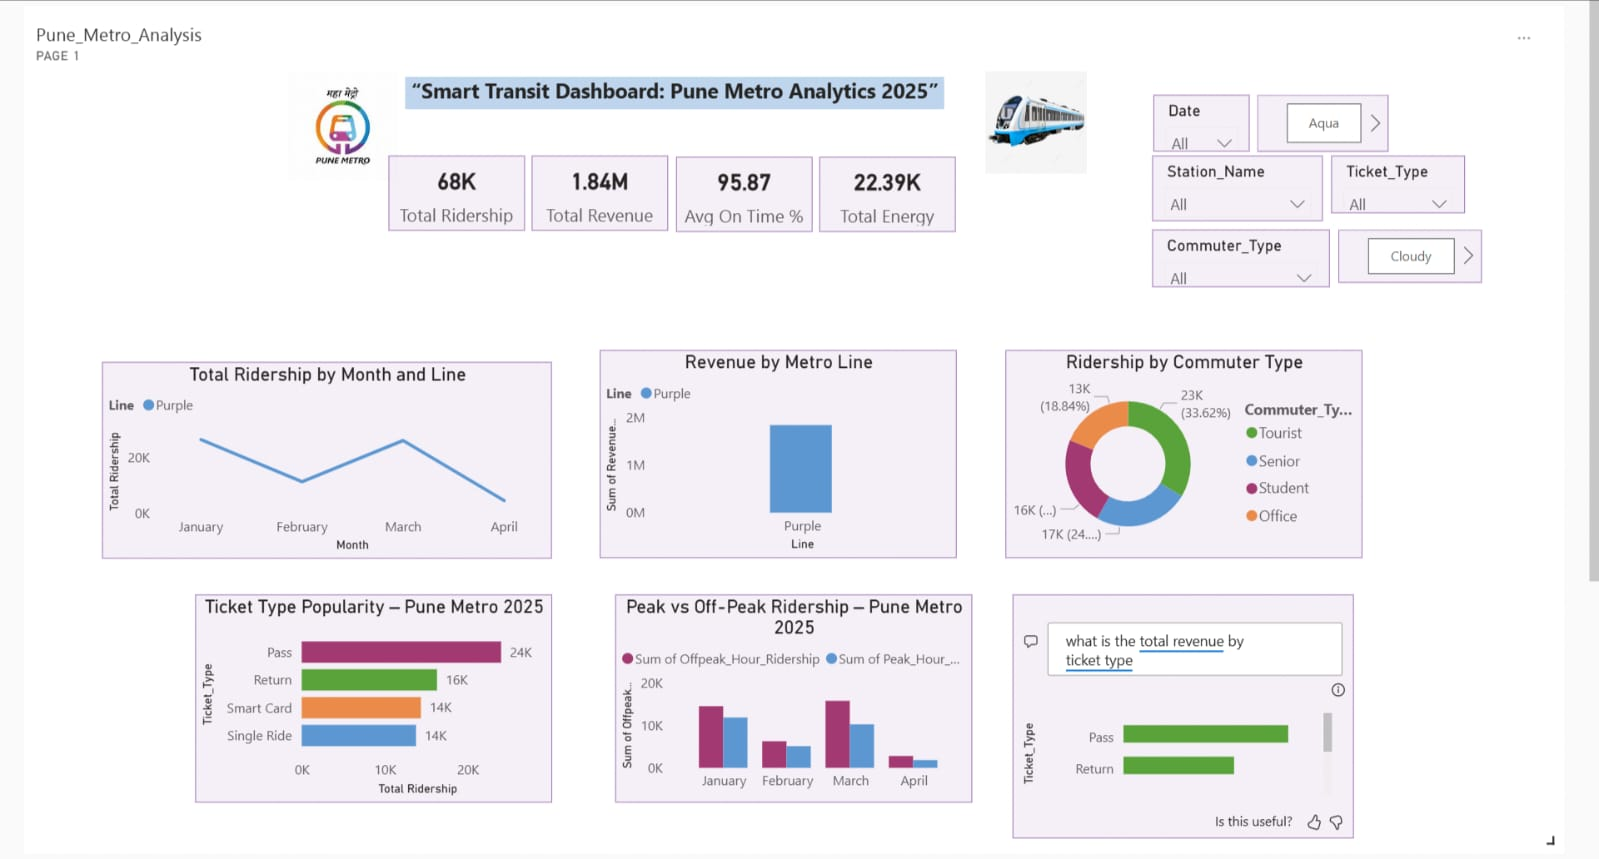

This screenshot's page, from the dashboard's own definition file:
{"tool":"powerbi","page":{"name":"Page 1","canvas":[1280,720],"ordinal":0},"visuals":[{"type":"textbox","title":"“Smart Transit Dashboard: Pune Metro Analytics 2025”","box":[285,10,493,33],"z":0},{"type":"image","box":[159,0,136,110],"z":1000},{"type":"lineChart","fields":{"Category":["Sheet1.Date.Variation.Date Hierarchy.Month"],"Y":["Sheet1.Total Ridership"],"Series":["Sheet1.Line"]},"box":[8,270,411,180],"z":2000},{"type":"clusteredColumnChart","title":"Revenue by Metro Line","fields":{"Category":["Sheet1.Line"],"Series":["Sheet1.Line"],"Y":["Sum(Sheet1.Revenue_INR)"]},"box":[462,260,326,190],"z":3000},{"type":"donutChart","title":"Ridership by Commuter Type","fields":{"Category":["Sheet1.Commuter_Type"],"Y":["Sheet1.Total Ridership"]},"box":[833,260,326,190],"z":4000},{"type":"clusteredBarChart","title":"Ticket Type Popularity – Pune Metro 2025","fields":{"Y":["Sheet1.Total Ridership"],"Category":["Sheet1.Ticket_Type"]},"box":[93,483,326,190],"z":5000},{"type":"clusteredColumnChart","title":"Peak vs Off-Peak Ridership – Pune Metro 2025","fields":{"Category":["Sheet1.Date.Variation.Date Hierarchy.Month"],"Y":["Sum(Sheet1.Offpeak_Hour_Ridership)","Sum(Sheet1.Peak_Hour_Ridership)"]},"box":[477,483,326,190],"z":6000},{"type":"image","box":[809,0,104,103],"z":7000},{"type":"card","fields":{"Values":["Sheet1.Total Ridership"]},"box":[269,82,125,69],"z":8000},{"type":"card","fields":{"Values":["Sheet1.Total Revenue"]},"box":[400,82,125,69],"z":9000},{"type":"card","fields":{"Values":["Sheet1.Avg On Time %"]},"box":[532,83,125,69],"z":10000},{"type":"card","fields":{"Values":["Sheet1.Total Energy"]},"box":[663,83,125,69],"z":11000},{"type":"slicer","fields":{"Values":["Sheet1.Date"]},"box":[969,26,88,52],"z":12000},{"type":"slicer","fields":{"Values":["Sheet1.Line"]},"box":[1064,26,120,52],"z":13000},{"type":"slicer","fields":{"Values":["Sheet1.Station_Name"]},"box":[968,82,156,60],"z":14000},{"type":"slicer","fields":{"Values":["Sheet1.Ticket_Type"]},"box":[1131,82,122,53],"z":15000},{"type":"slicer","fields":{"Values":["Sheet1.Commuter_Type"]},"box":[968,149,162,53],"z":16000},{"type":"slicer","fields":{"Values":["Sheet1.Weather_Condition"]},"box":[1138,149,131,49],"z":17000},{"type":"qnaVisual","box":[833,467,312,223],"z":18000}]}

Visuals, with their boxes on the page's 1280x720 design canvas (x1, y1, x2, y2). These are canvas units, not pixel positions in the 1599x859 screenshot, which may show the page scaled, cropped or inside an application window:
"“Smart Transit Dashboard: Pune Metro Analytics 2025”" textbox: {"x1": 285, "y1": 10, "x2": 778, "y2": 43}
image: {"x1": 159, "y1": 0, "x2": 295, "y2": 110}
lineChart - Sheet1.Date.Variation.Date Hierarchy.Month x Sheet1.Total Ridership: {"x1": 8, "y1": 270, "x2": 419, "y2": 450}
"Revenue by Metro Line" clusteredColumnChart: {"x1": 462, "y1": 260, "x2": 788, "y2": 450}
"Ridership by Commuter Type" donutChart: {"x1": 833, "y1": 260, "x2": 1159, "y2": 450}
"Ticket Type Popularity – Pune Metro 2025" clusteredBarChart: {"x1": 93, "y1": 483, "x2": 419, "y2": 673}
"Peak vs Off-Peak Ridership – Pune Metro 2025" clusteredColumnChart: {"x1": 477, "y1": 483, "x2": 803, "y2": 673}
image: {"x1": 809, "y1": 0, "x2": 913, "y2": 103}
card - Sheet1.Total Ridership: {"x1": 269, "y1": 82, "x2": 394, "y2": 151}
card - Sheet1.Total Revenue: {"x1": 400, "y1": 82, "x2": 525, "y2": 151}
card - Sheet1.Avg On Time %: {"x1": 532, "y1": 83, "x2": 657, "y2": 152}
card - Sheet1.Total Energy: {"x1": 663, "y1": 83, "x2": 788, "y2": 152}
slicer - Sheet1.Date: {"x1": 969, "y1": 26, "x2": 1057, "y2": 78}
slicer - Sheet1.Line: {"x1": 1064, "y1": 26, "x2": 1184, "y2": 78}
slicer - Sheet1.Station_Name: {"x1": 968, "y1": 82, "x2": 1124, "y2": 142}
slicer - Sheet1.Ticket_Type: {"x1": 1131, "y1": 82, "x2": 1253, "y2": 135}
slicer - Sheet1.Commuter_Type: {"x1": 968, "y1": 149, "x2": 1130, "y2": 202}
slicer - Sheet1.Weather_Condition: {"x1": 1138, "y1": 149, "x2": 1269, "y2": 198}
qnaVisual: {"x1": 833, "y1": 467, "x2": 1145, "y2": 690}
